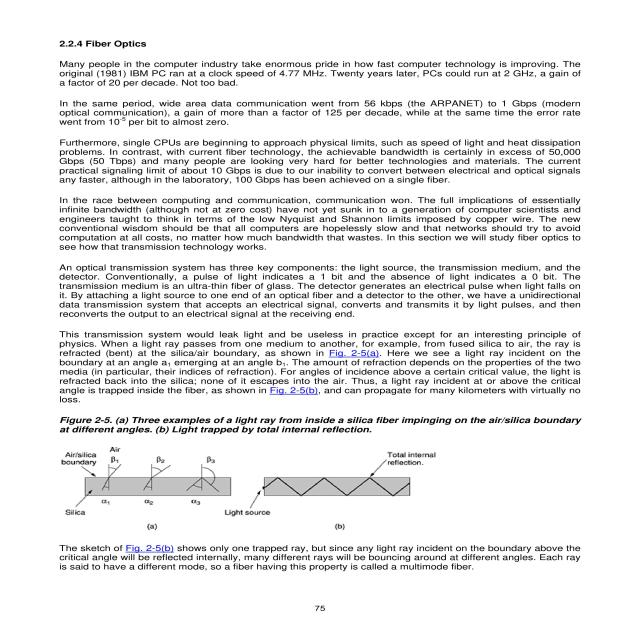diagram: (40, 408, 592, 534), (0, 375, 3, 406)
